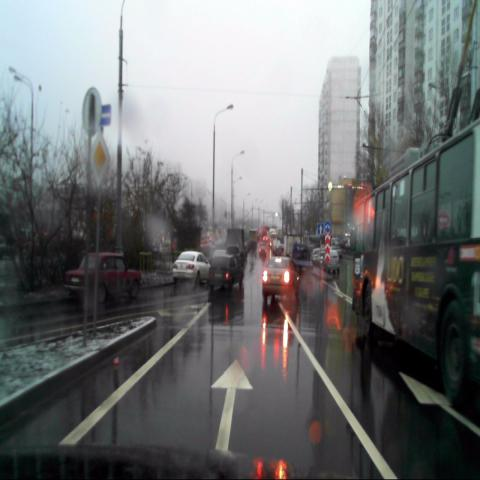2_1: (90, 129, 110, 187)
